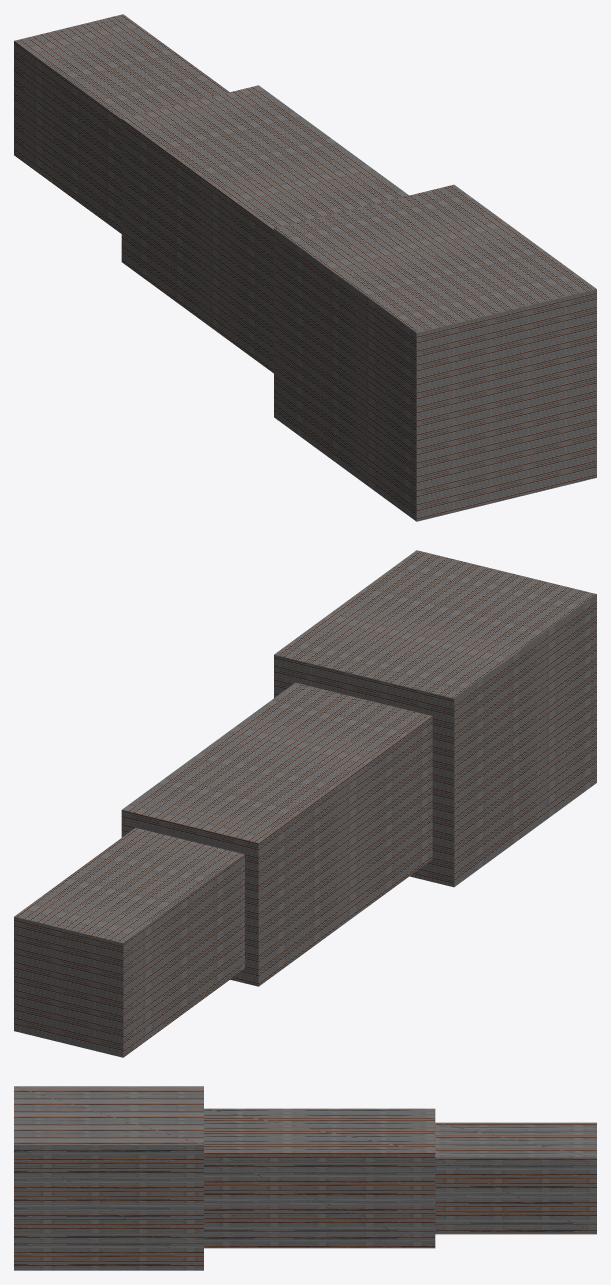
Rendered from turret.glb.
3 views of the same model, one above another, from view 1: azimuth 30°, elevation 25°; view 2: azimuth 150°, elevation 25°; view 3: azimuth 270°, elevation 25° (orthographic). The views are drawn at different scales.
Visible parts, largest first — view 1: Cube; view 2: Cube; view 3: Cube.
Part boxes in pixels (left/top/right/bottom): Cube: left=14, top=14, right=596, bottom=521; Cube: left=14, top=550, right=596, bottom=1057; Cube: left=14, top=1086, right=596, bottom=1270.
Size of the model in its own units: 1 by 1 by 4.21.
1 material, 1 textured.
